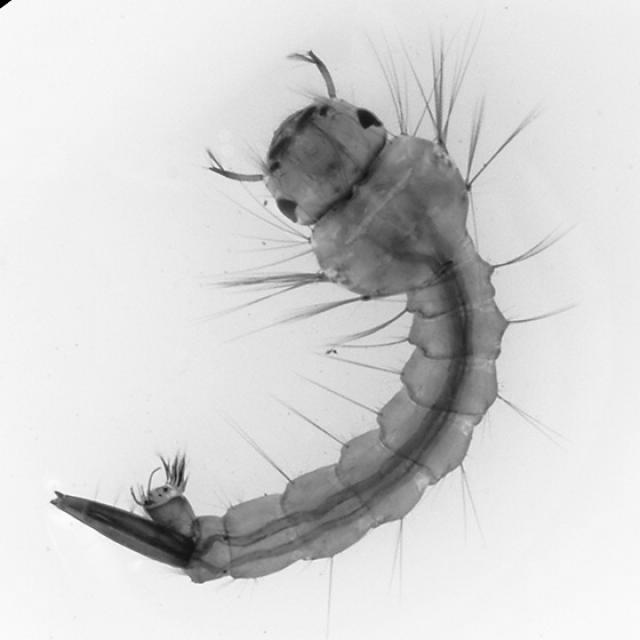larvas: (52, 51, 503, 582)
